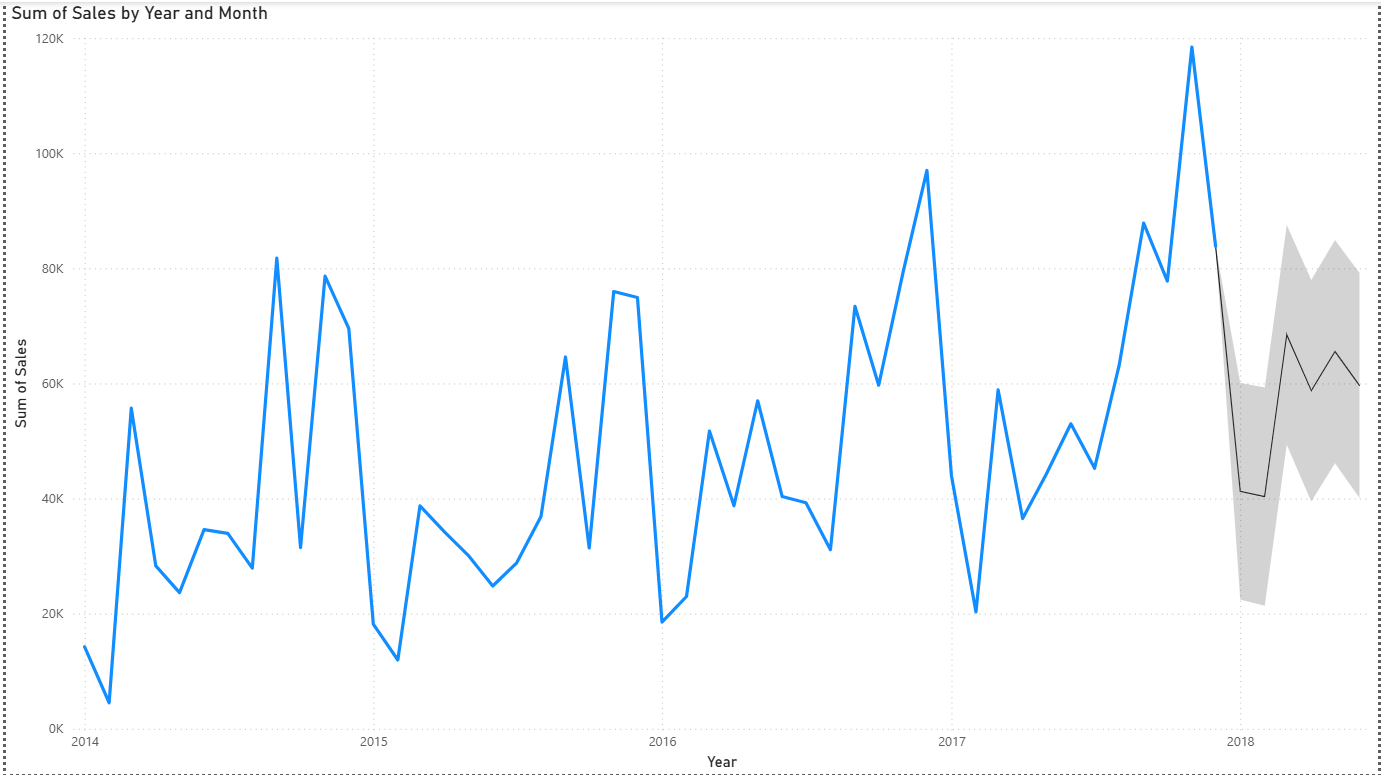

Layout of this report page (visuals, bound fields, positions):
{"tool":"powerbi","page":{"name":"Sales Forecasting Dashboard","canvas":[1280,720],"ordinal":1},"visuals":[{"type":"lineChart","fields":{"Y":["Sum(Sample_superstore.Sales)"],"Category":["Sample_superstore.Order Date.Variation.Date Hierarchy.Year","Sample_superstore.Order Date.Variation.Date Hierarchy.Month"]},"box":[0,0,1280.1,720.5],"z":0}]}

Visuals, with their boxes in screenshot pixels (x1, y1, x2, y2), scaled from the page's 1280x720 canvas onto the 1381x775 screenshot:
lineChart - Sum(Sample_superstore.Sales) x Sample_superstore.Order Date.Variation.Date Hierarchy.Year: BBox(0, 0, 1380, 774)
